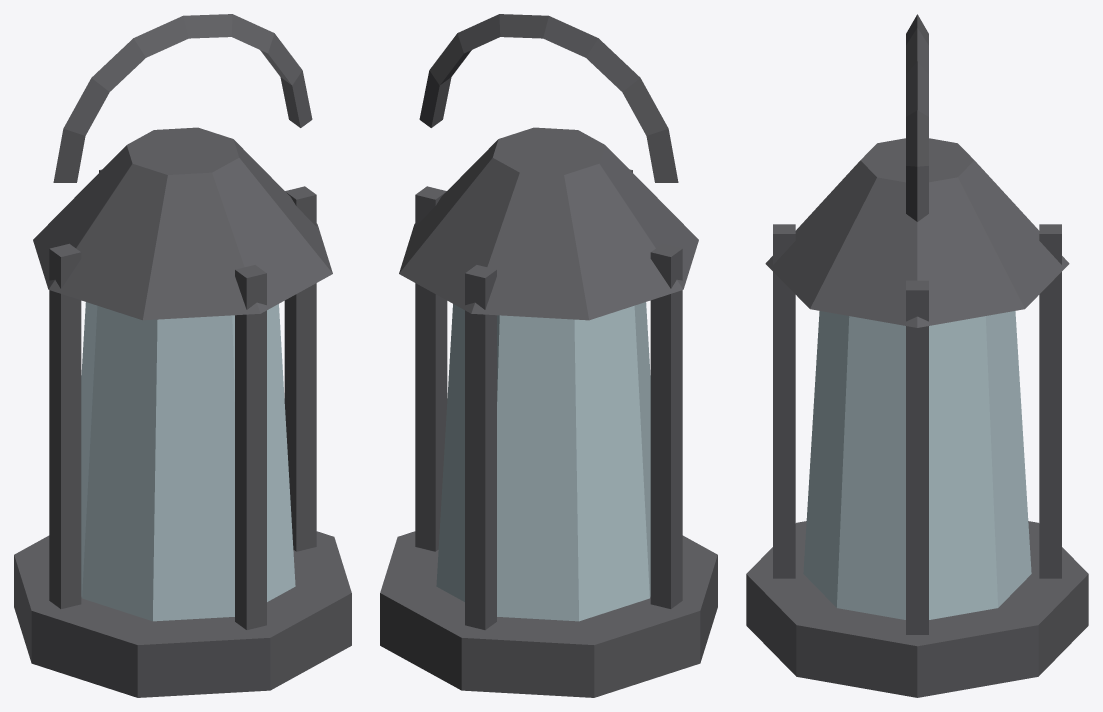
Rendered from SM_Lantern.glb.
3 views of the same model, side by side, from view 1: azimuth 30°, elevation 25°; view 2: azimuth 150°, elevation 25°; view 3: azimuth 270°, elevation 25° (orthographic). The views are drawn at different scales.
Visible parts, largest first — view 1: SM_Lantern; view 2: SM_Lantern; view 3: SM_Lantern.
Boxes of the visible parts, <box> form: SM_Lantern: <box>14,14,351,697</box>; SM_Lantern: <box>380,14,717,697</box>; SM_Lantern: <box>746,14,1088,697</box>.
Bounding box in the file's own units: 0.18 × 0.347 × 0.18.
